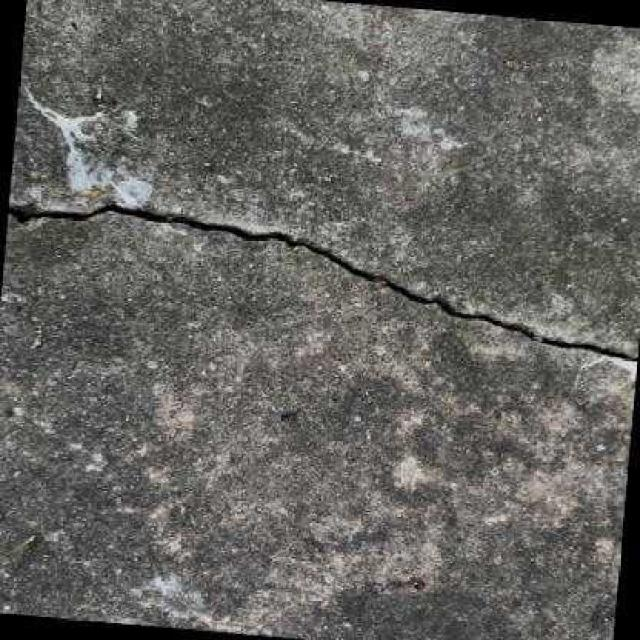D00: (8, 200, 639, 361)
